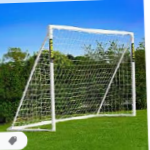goals: (7, 21, 138, 135)
